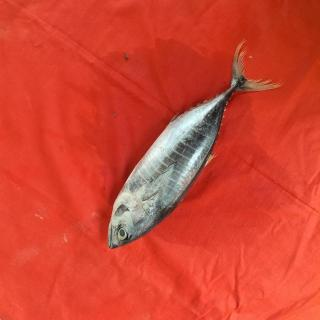Ikan: (79, 23, 287, 259)
